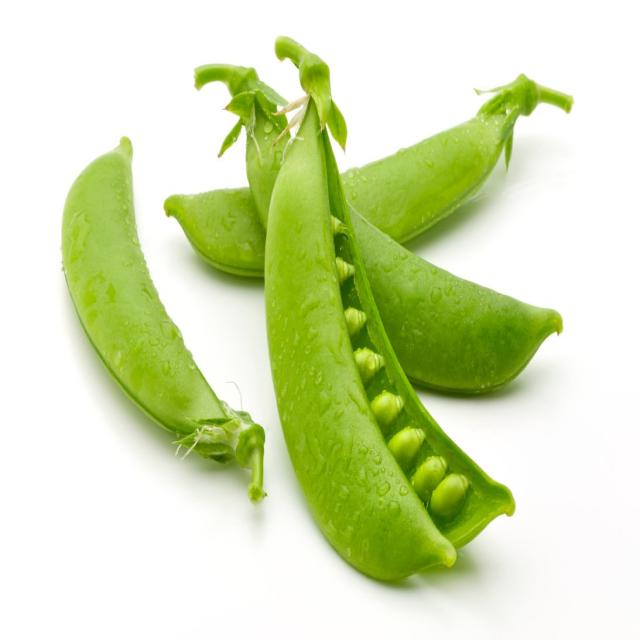arvejas: (258, 153, 492, 593)
